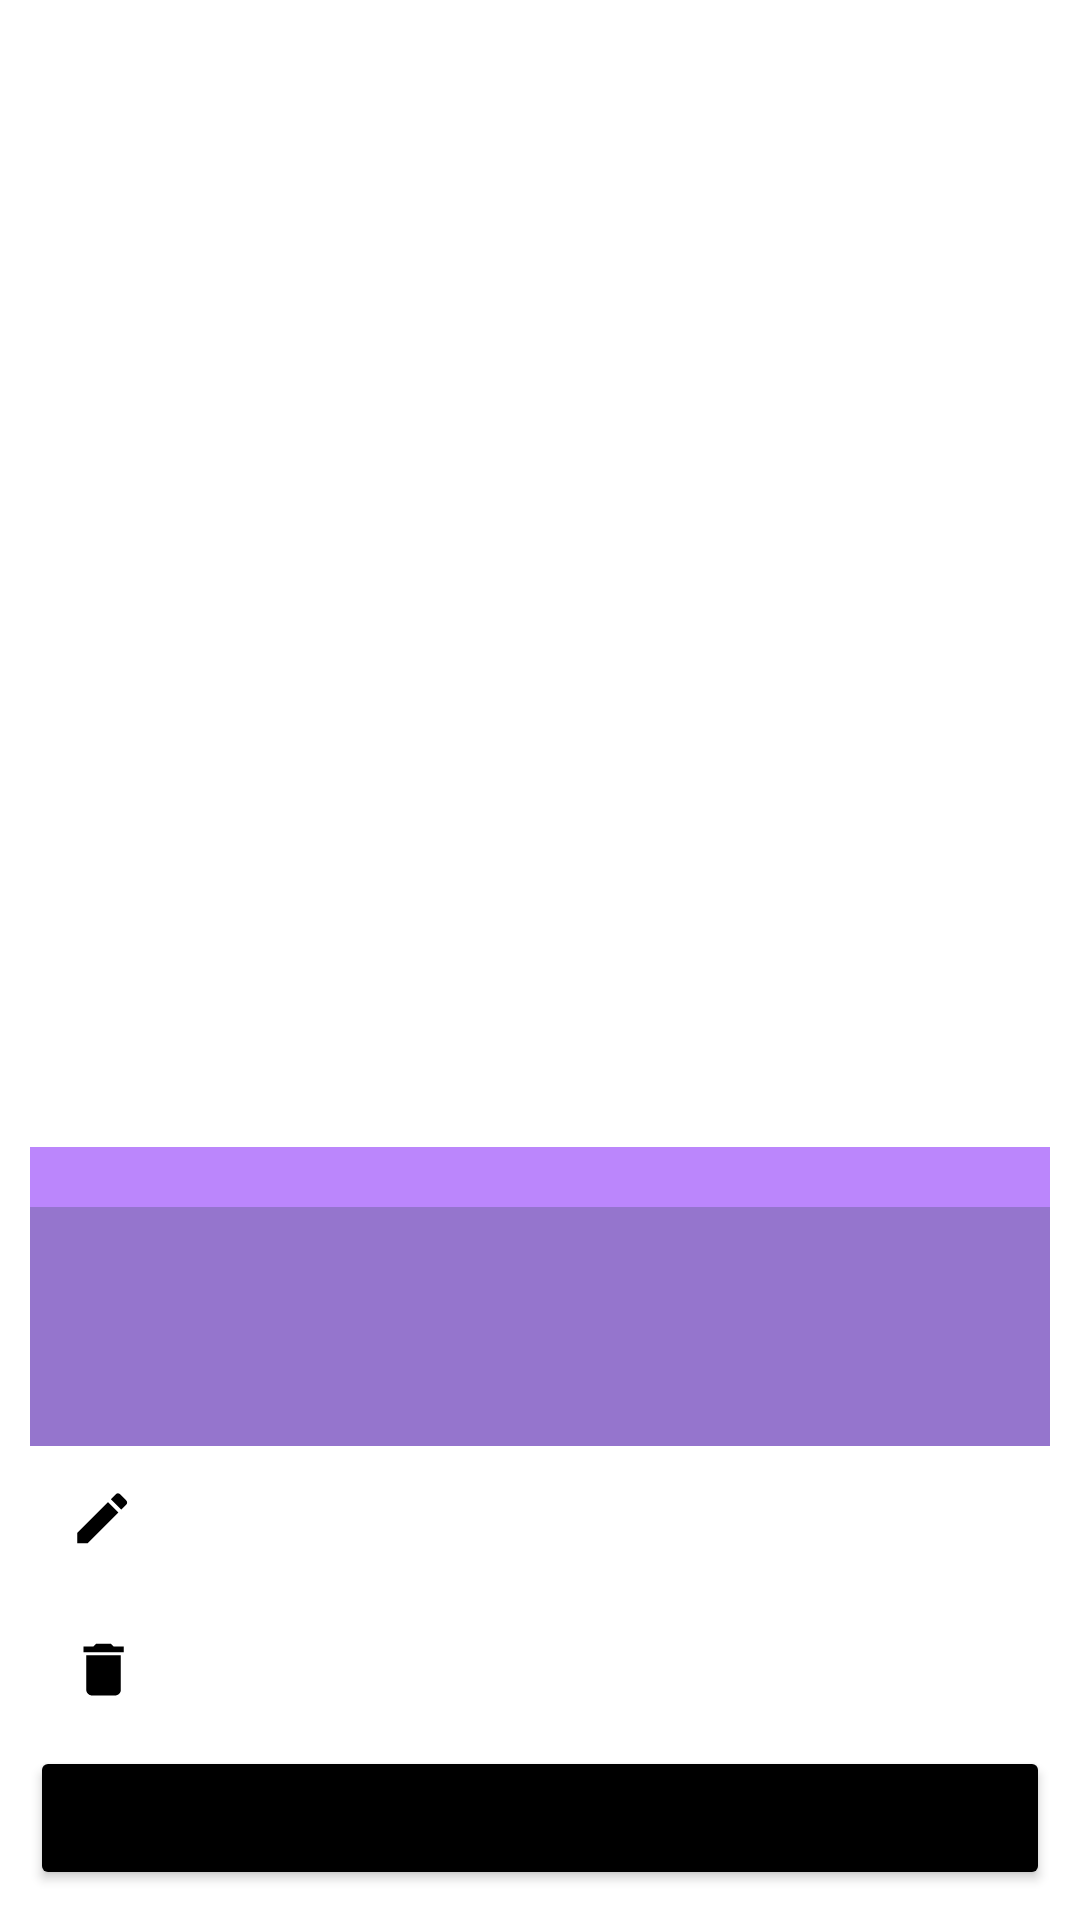

Named icons in this screenshot (1080×1920) and their bounding boxes, [x1,y1,x2,y2]:
delete: [83,1643,124,1696]
edit: [77,1493,127,1544]
